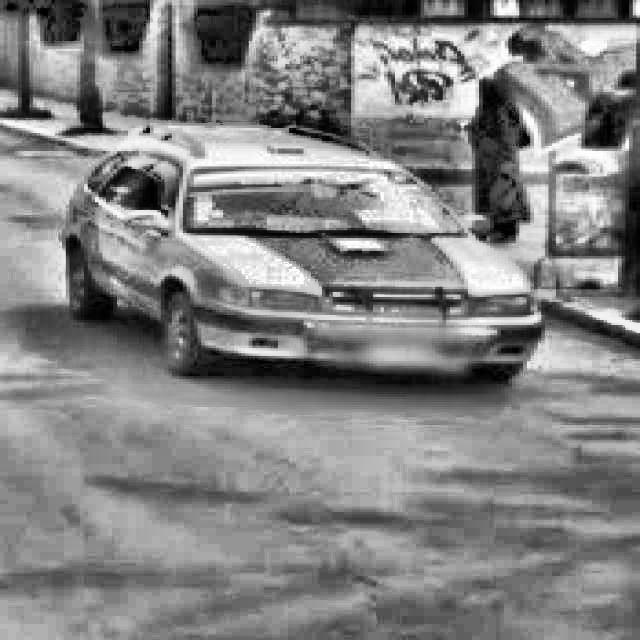carro: (59, 136, 564, 397)
